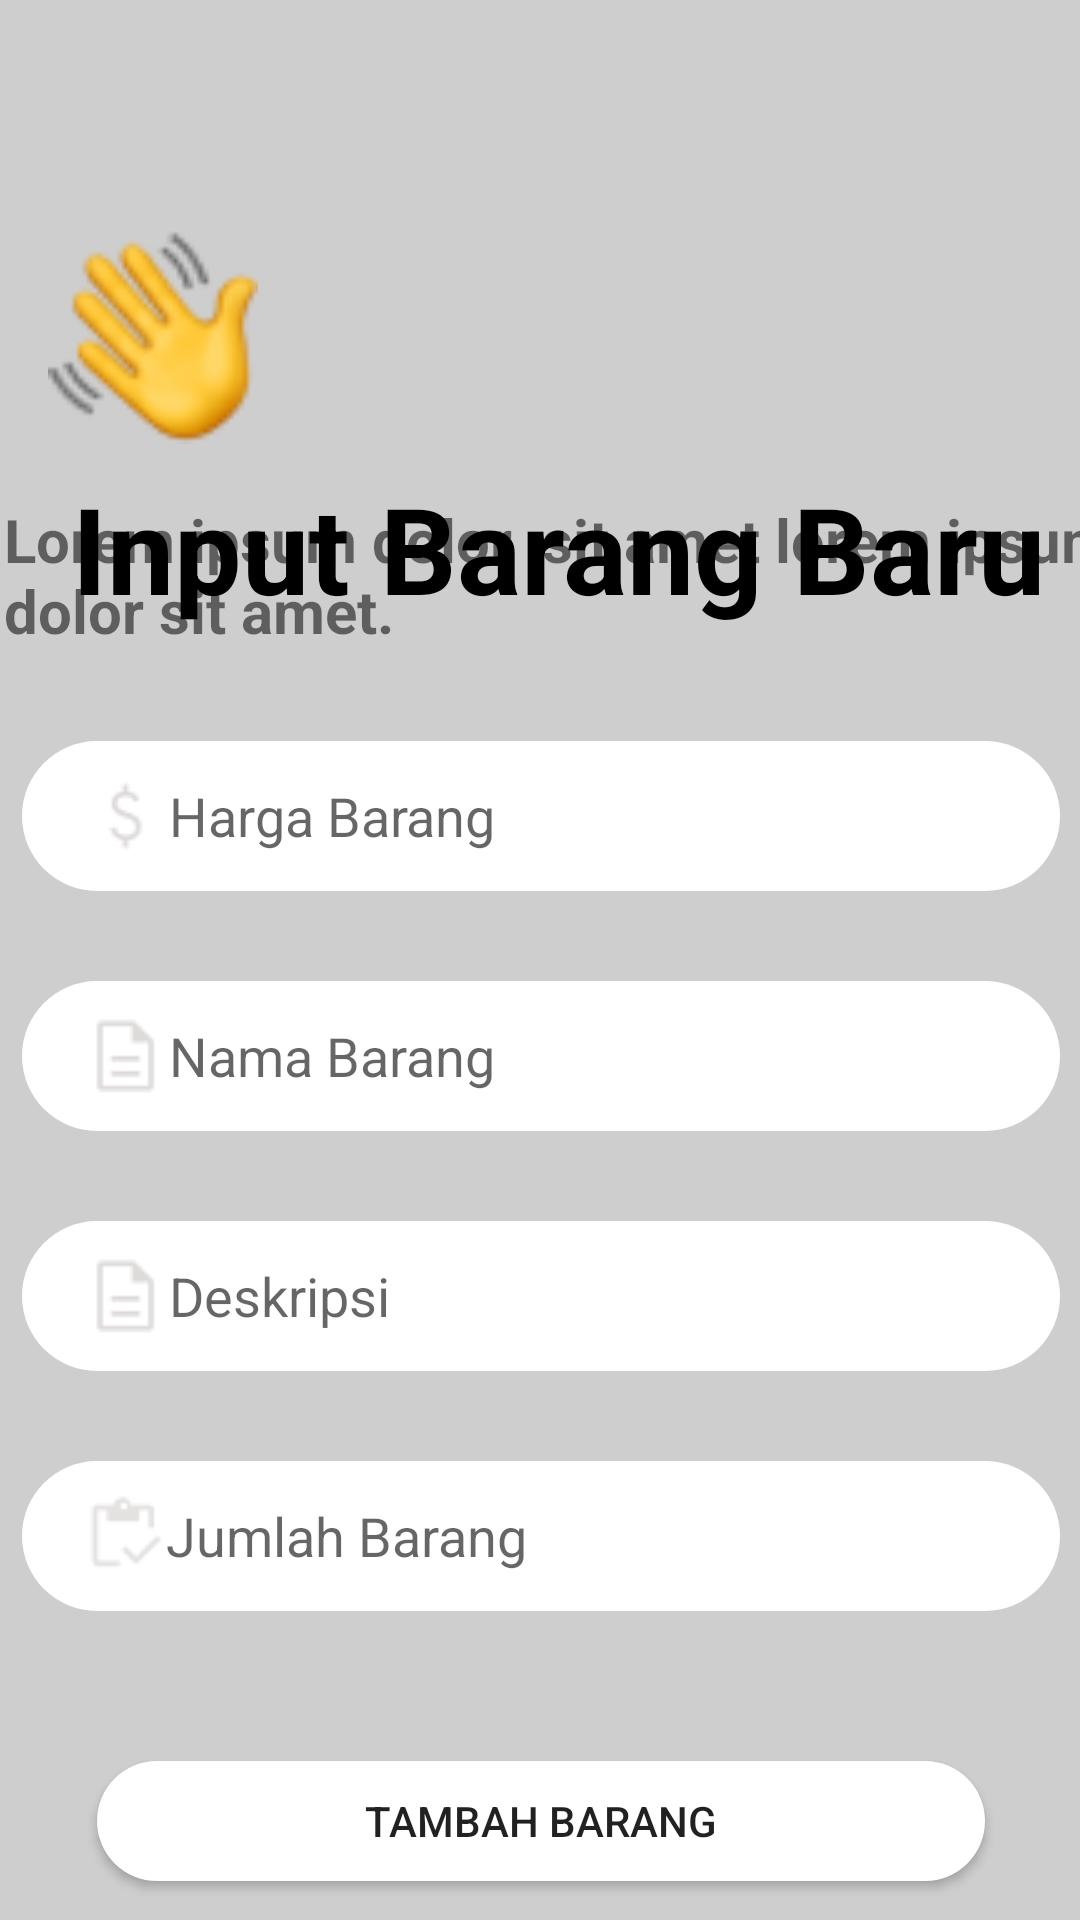

Icons on this 1080px×1920px Android screen, each with the point to tap as (x,y):
tangan: (153,337)
